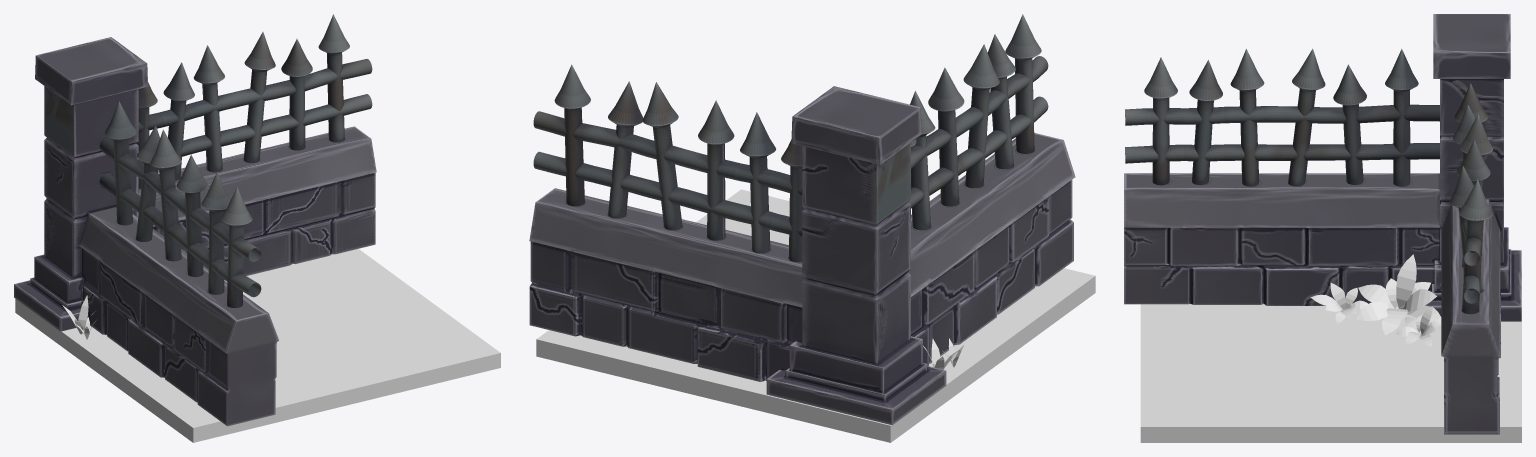
Rendered from GraveyardFenceFLCorner_New.fbx.
The picture shows the model from 3 angles, left to right: view 1: azimuth 30°, elevation 25°; view 2: azimuth 150°, elevation 25°; view 3: azimuth 270°, elevation 25°; orthographic projection. The views are drawn at different scales.
Visible parts, largest first — view 1: StoneFenceCorner_LP.008, NewFenceLeft.002, CornerGround_LP.030; view 2: StoneFenceCorner_LP.008, NewFenceLeft.002; view 3: StoneFenceCorner_LP.008, NewFenceLeft.002, CornerGround_LP.030.
Boxes of the visible parts, x1,y1,x2,y2 form: StoneFenceCorner_LP.008: (14,14,376,426); NewFenceLeft.002: (15,249,500,442); CornerGround_LP.030: (62,280,226,339); StoneFenceCorner_LP.008: (529,14,1075,425); NewFenceLeft.002: (536,189,1095,442); StoneFenceCorner_LP.008: (1124,14,1521,434); NewFenceLeft.002: (1140,266,1521,442); CornerGround_LP.030: (1310,254,1441,346).
Bounding box in the file's own units: 220 × 164 × 214.
